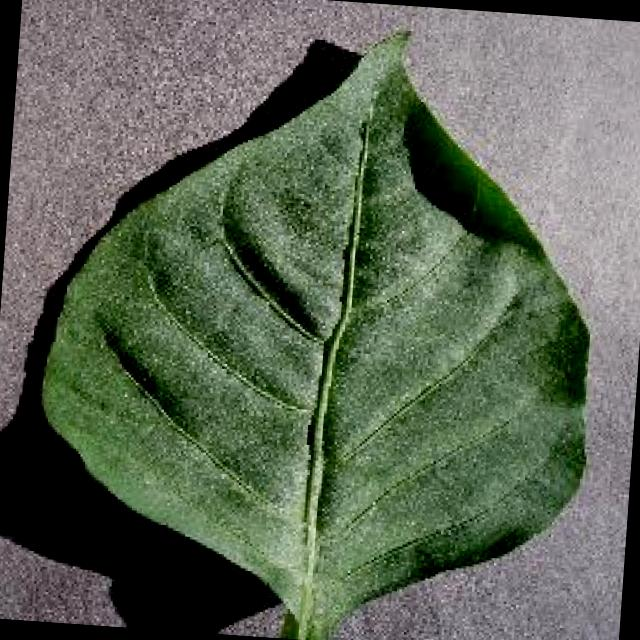Leaf: (90, 162, 627, 577)
